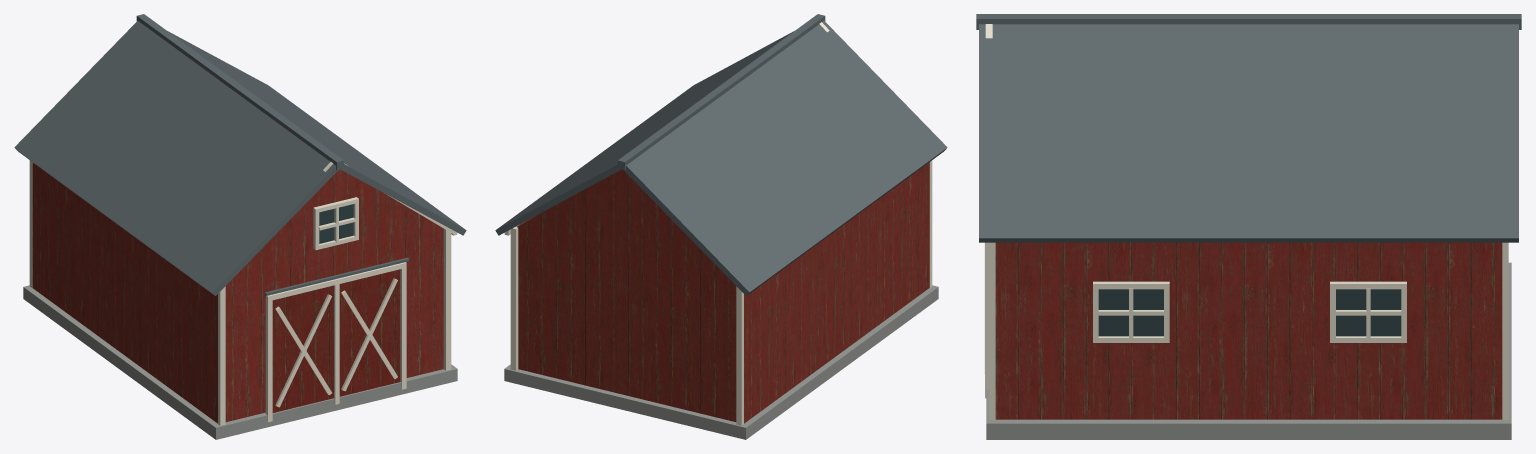
Rendered from source.glb.
3 views of the same model, side by side, from view 1: azimuth 30°, elevation 25°; view 2: azimuth 150°, elevation 25°; view 3: azimuth 270°, elevation 25° (orthographic). The views are drawn at different scales.
Parts seen in each view (by area): view 1: weathered-red-barn; view 2: weathered-red-barn; view 3: weathered-red-barn.
Part boxes in pixels (x1,y1,x2,y2): weathered-red-barn: (14,14,466,439); weathered-red-barn: (495,14,947,439); weathered-red-barn: (976,14,1521,439).
Size of the model in its own units: 11.04 by 10.45 by 15.05.
6 materials, 2 textured.
